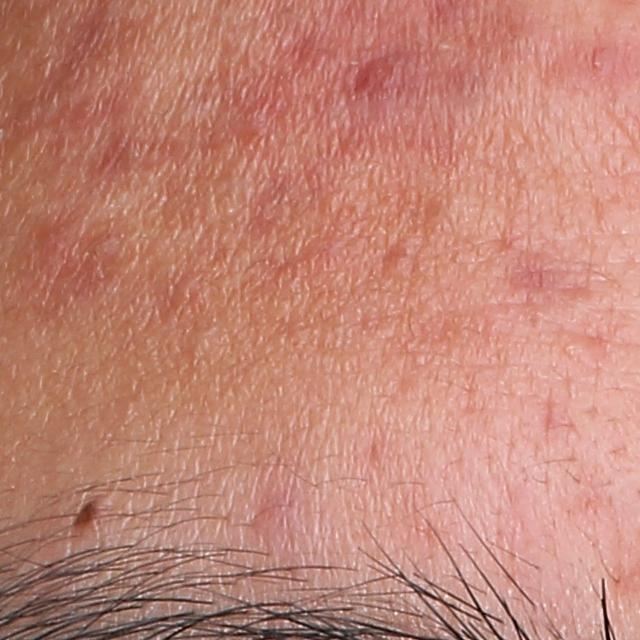comedo: (556, 332, 604, 370)
nevus: (70, 497, 107, 534)
